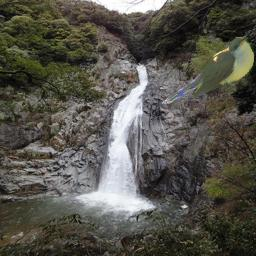Cuckoo: (160, 37, 254, 104)
